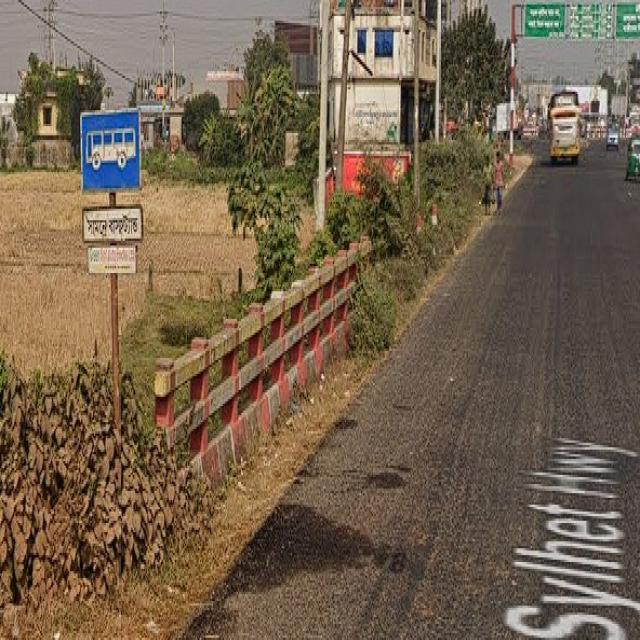Ahead-the-bus-station: (82, 105, 154, 242)
